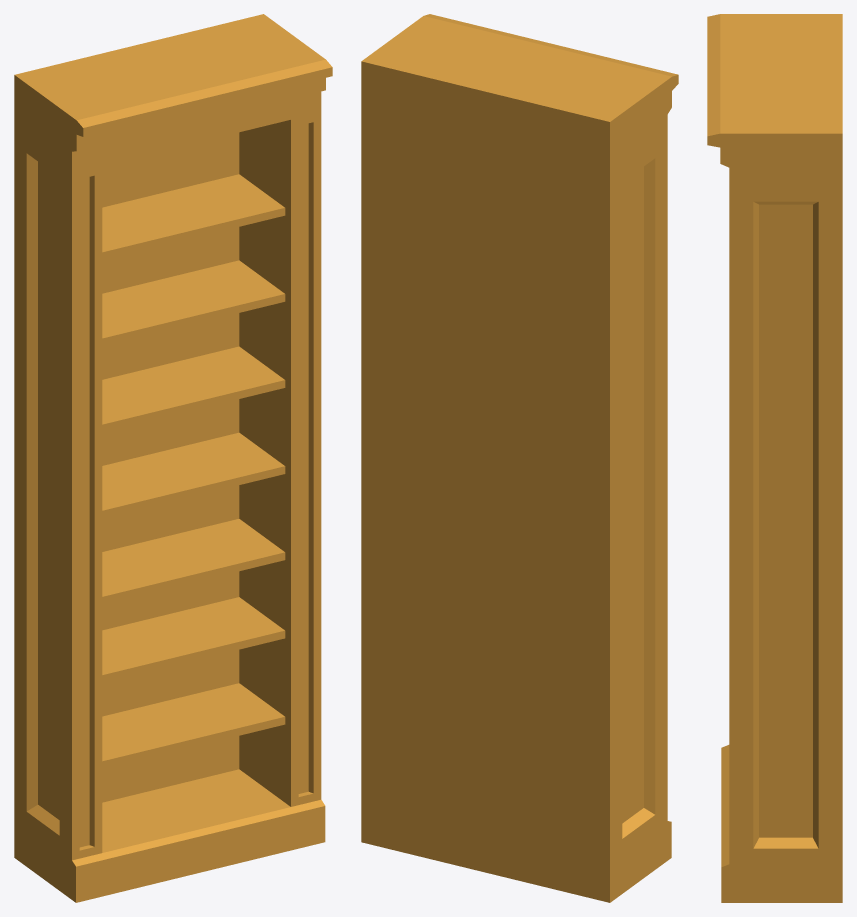
File: Sm_Bookcase_Modular_1m.fbx
The picture shows the model from 3 angles, left to right: view 1: azimuth 30°, elevation 25°; view 2: azimuth 150°, elevation 25°; view 3: azimuth 270°, elevation 25°; orthographic projection.
Parts seen in each view (by area): view 1: bookcase-modular-1m; view 2: bookcase-modular-1m; view 3: bookcase-modular-1m.
Part boxes in pixels (box(x1,y1,x2,y2)): bookcase-modular-1m: box(14, 14, 332, 902); bookcase-modular-1m: box(361, 14, 678, 902); bookcase-modular-1m: box(707, 14, 842, 902).
Size of the model in its own units: 1 by 3 by 0.4778.
